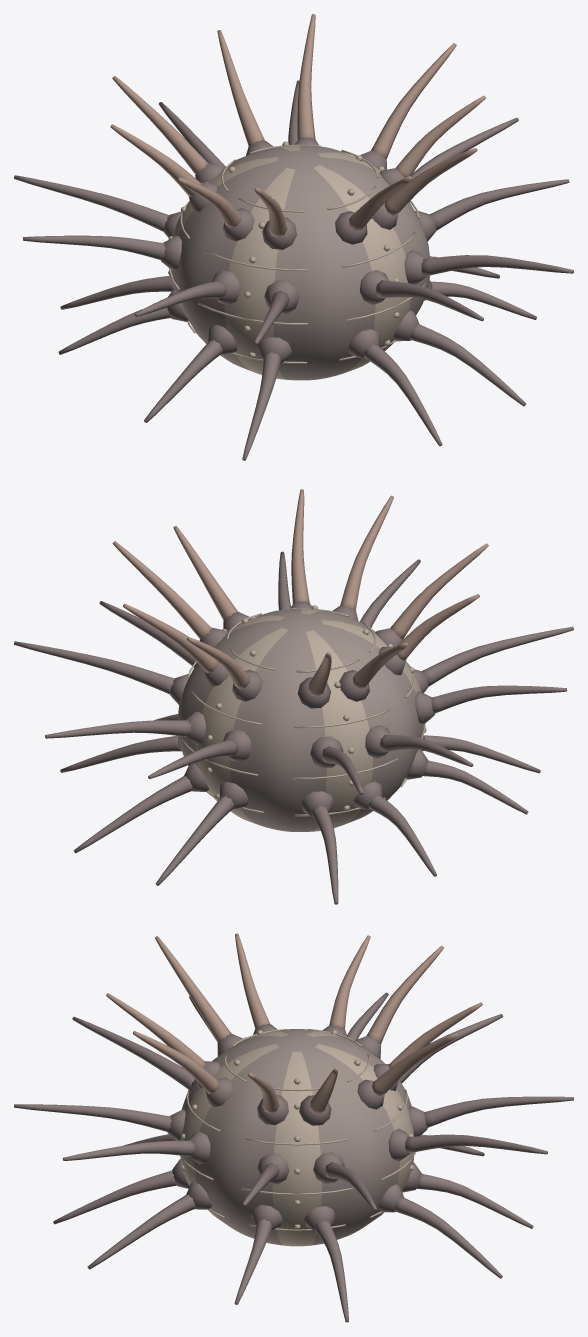
Rendered from archaeocidaris.glb.
3 renders of one model, top to bottom at view 1: azimuth 30°, elevation 25°; view 2: azimuth 150°, elevation 25°; view 3: azimuth 270°, elevation 25°, orthographic. The views are drawn at different scales.
Visible parts, largest first — view 1: rounded-test-with-fivefold-plate-fields, tapered-primary-spines, organized-plate-bosses, large-scale-plate-rhythm; view 2: tapered-primary-spines, rounded-test-with-fivefold-plate-fields, organized-plate-bosses, large-scale-plate-rhythm; view 3: rounded-test-with-fivefold-plate-fields, tapered-primary-spines, organized-plate-bosses, large-scale-plate-rhythm.
Boxes of the visible parts, x1,y1,x2,y2 form: rounded-test-with-fivefold-plate-fields: (171,145,429,380); tapered-primary-spines: (14,14,573,460); organized-plate-bosses: (161,137,436,363); large-scale-plate-rhythm: (169,144,426,363); tapered-primary-spines: (14,489,573,904); rounded-test-with-fivefold-plate-fields: (177,608,424,831); organized-plate-bosses: (170,601,434,817); large-scale-plate-rhythm: (181,608,425,816); rounded-test-with-fivefold-plate-fields: (180,1029,414,1246); tapered-primary-spines: (14,933,573,1322); organized-plate-bosses: (167,1024,427,1231); large-scale-plate-rhythm: (180,1029,416,1230).
Size of the model in its own units: 0.0931 by 0.0484 by 0.1.
